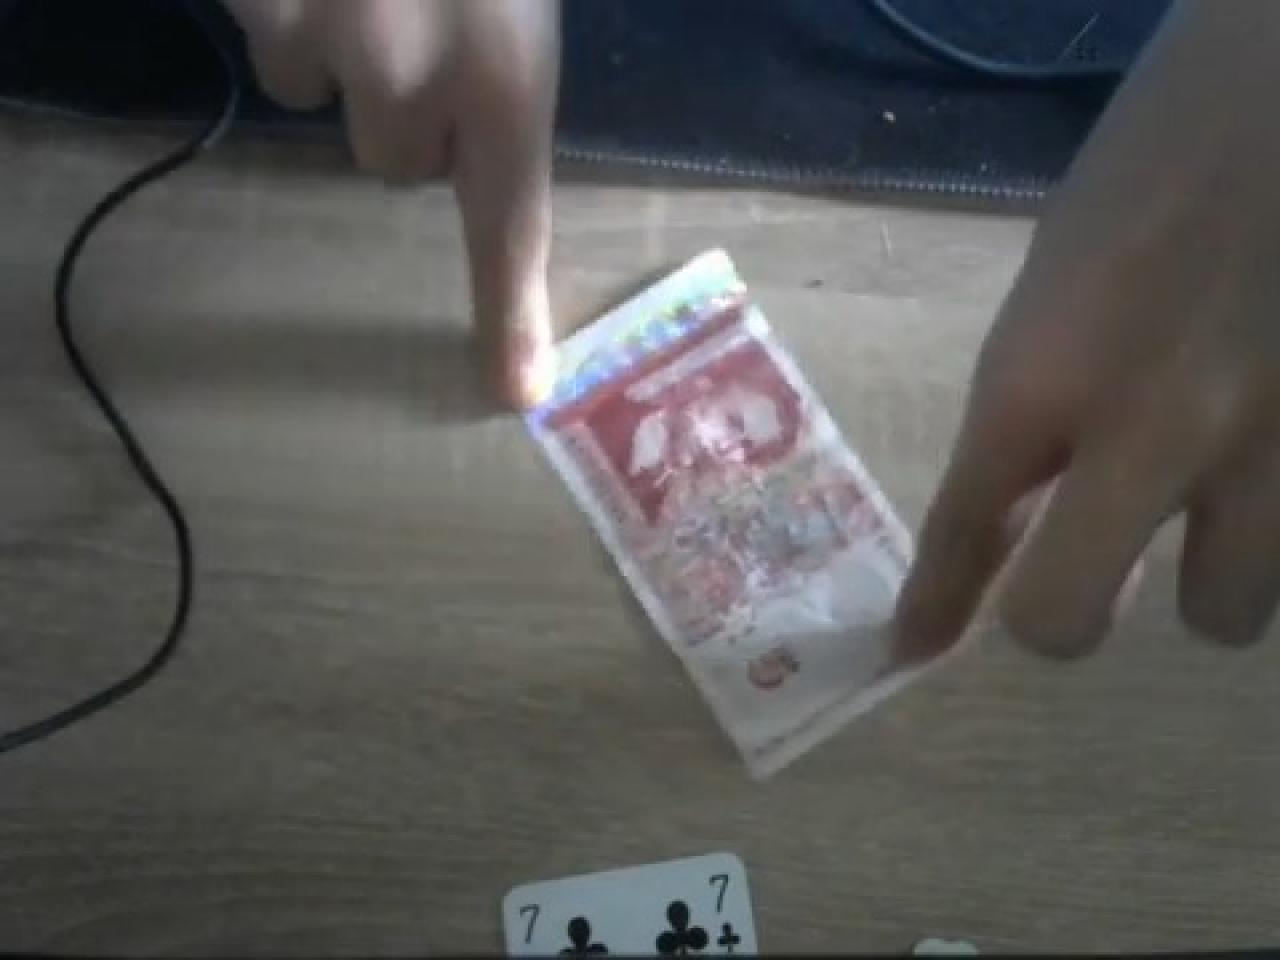5leva: (523, 251, 917, 784)
